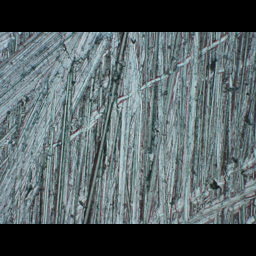d: (0, 32, 112, 219)
